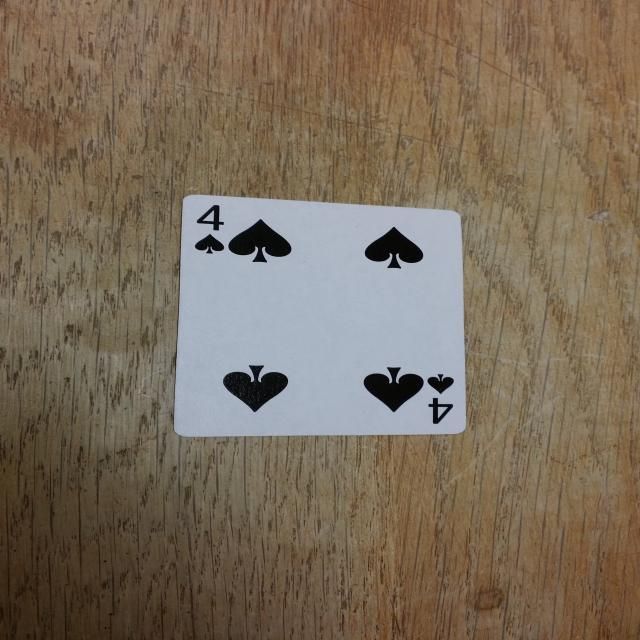8c: (418, 372, 465, 430), (191, 202, 231, 258)
